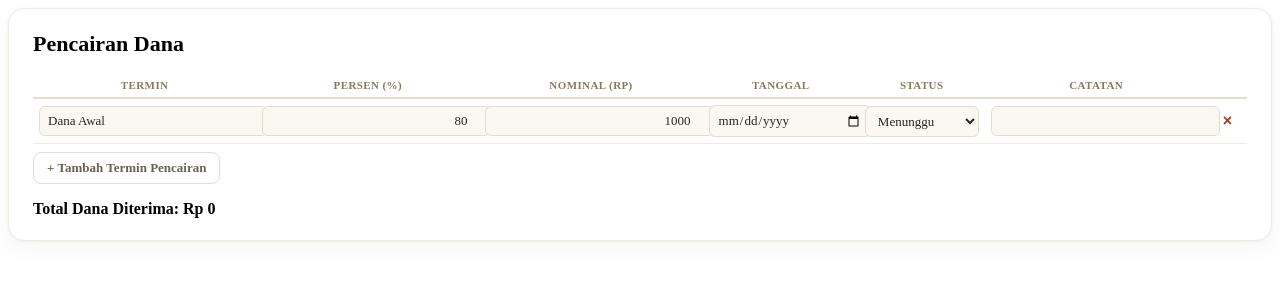
Test case: PencairanDanaTab › shows an inline error when a background save fails, instead of failing silently
Replace the text in the field named "Termin" with "Dana Tahap 1" at (154, 121), box 39,106 -> 268,136
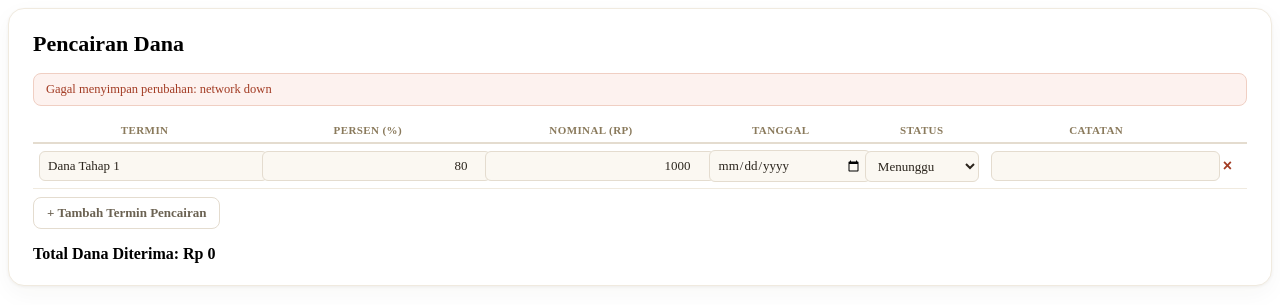
Expected: the text "Gagal menyimpan perubahan: network down" is shown, 46,82 -> 272,96
